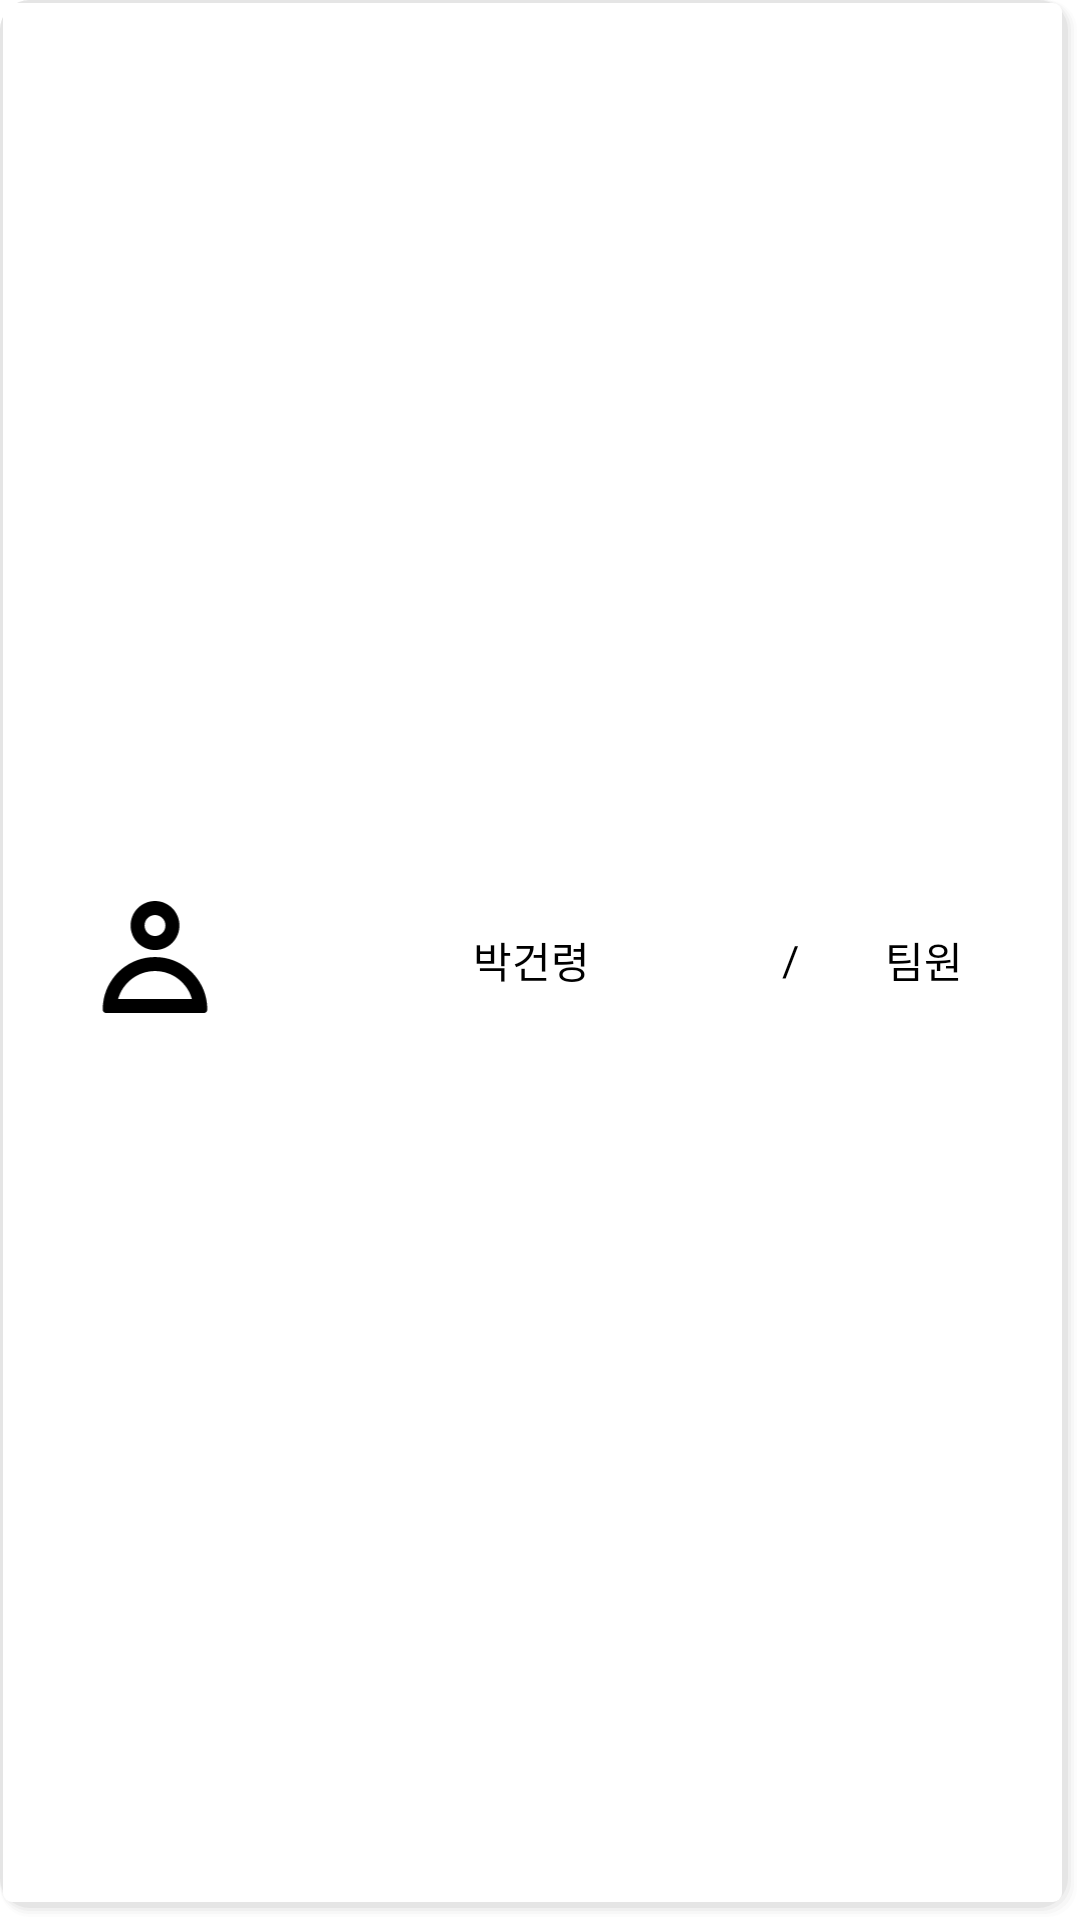

Icons on this 1080px x 1920px Android screen, each with its box as box=[x1, y1, x2, y2]:
profile: box=[102, 901, 208, 1013]
